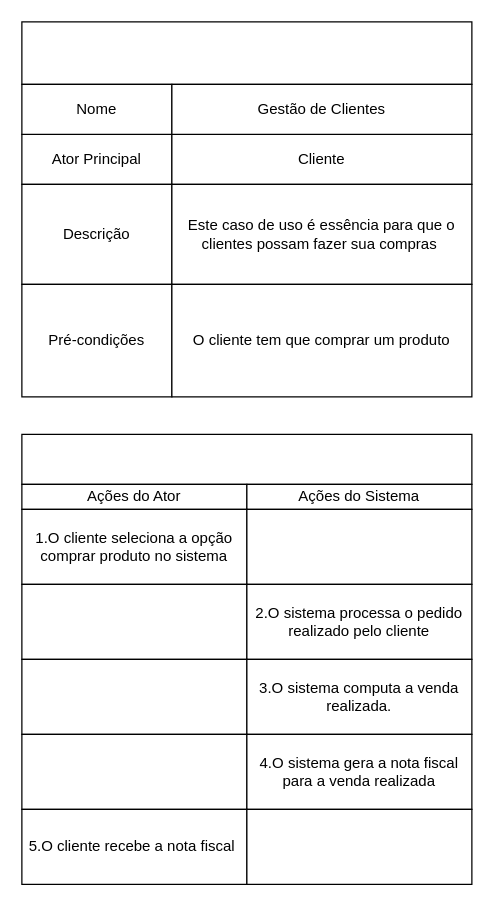
Some shapes in this 494 by 906 pixel diagram are drawn without their labels. Here are the shapes that lost their labels. From the top down, the centre of each, then its label:
At (246,52): "Especificação de Caso de Uso".
At (246,458): "Fluxo Principal".
